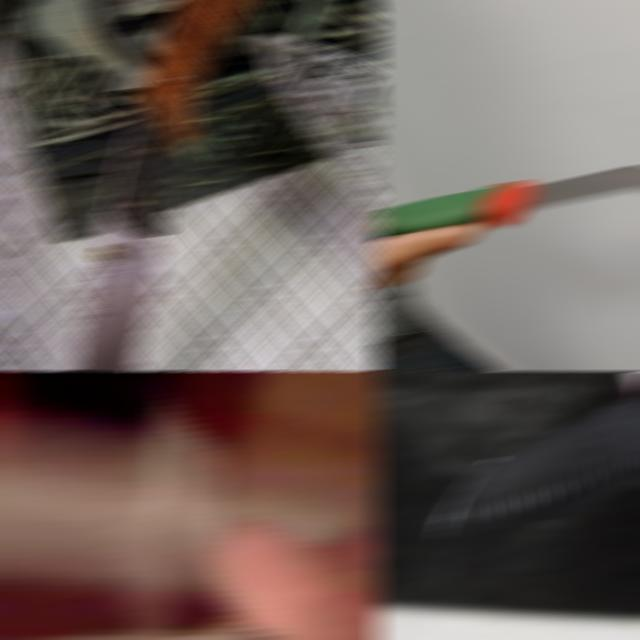Knife: (434, 372, 640, 542), (372, 165, 640, 240)
Knife_Handle: (372, 106, 640, 335), (0, 489, 382, 640), (436, 372, 640, 538)
